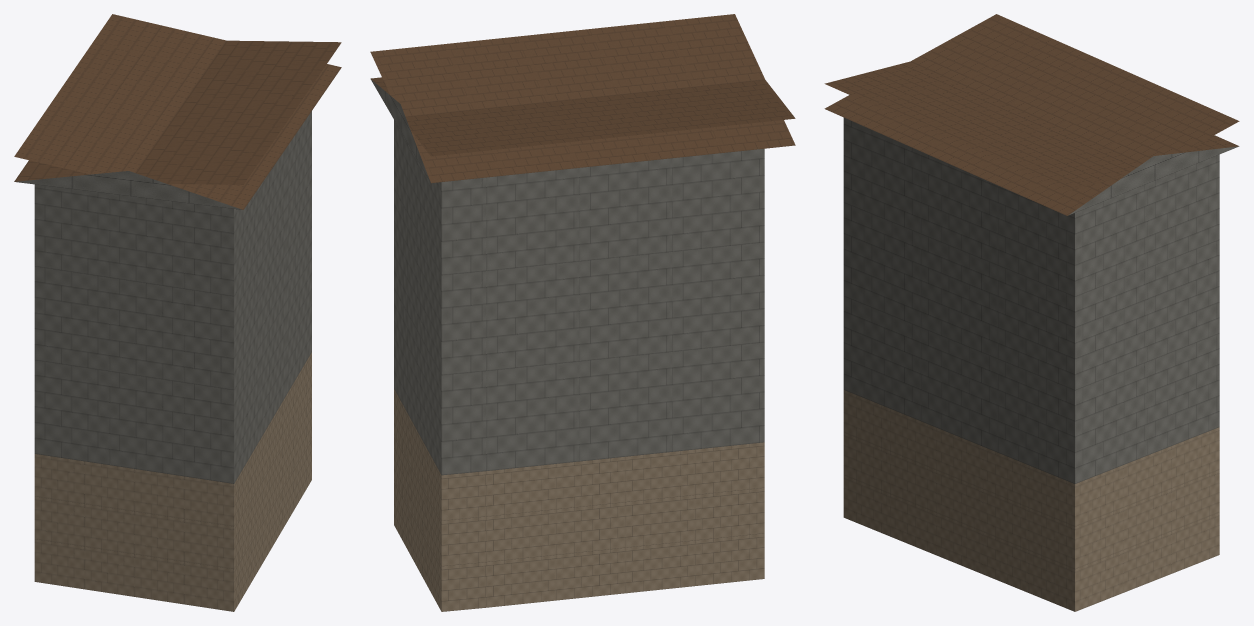
The model's file is bld_c15_26_396.gltf.
3 views of the same model, side by side, from view 1: azimuth 30°, elevation 25°; view 2: azimuth 150°, elevation 25°; view 3: azimuth 270°, elevation 25° (orthographic). The views are drawn at different scales.
Parts seen in each view (by area): view 1: bld_c15_26_396; view 2: bld_c15_26_396; view 3: bld_c15_26_396.
Boxes of the visible parts, x1,y1,x2,y2 form: bld_c15_26_396: (14, 14, 341, 611); bld_c15_26_396: (370, 14, 795, 611); bld_c15_26_396: (824, 14, 1239, 611).
Size of the model in its own units: 15.14 by 17.3 by 15.02.
4 materials, 4 textured.
